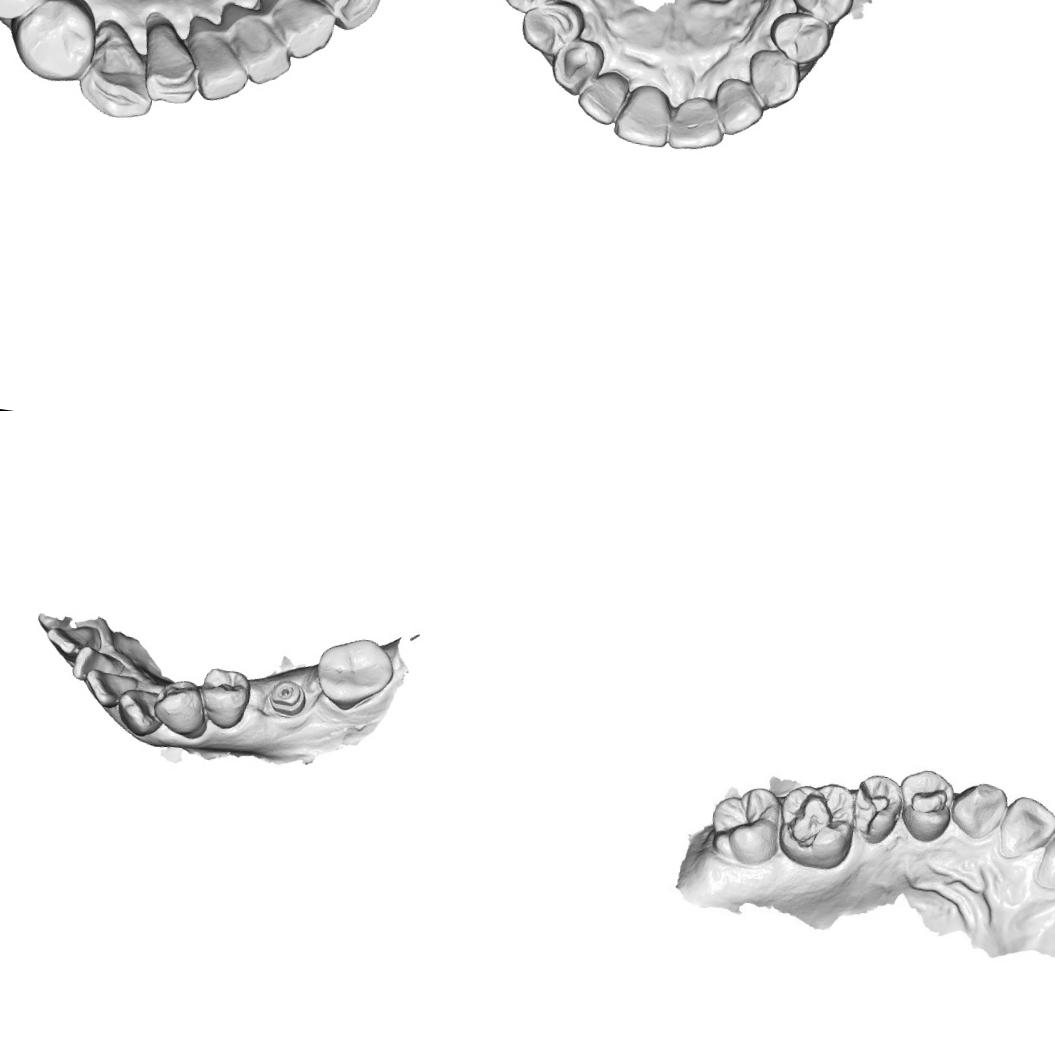canine: (74, 14, 165, 124), (742, 44, 804, 114), (948, 778, 1008, 846), (546, 35, 608, 100), (290, 0, 385, 35), (112, 684, 164, 740)
implant_minus: (266, 675, 310, 718)
incisor: (136, 15, 208, 109), (177, 20, 253, 108), (220, 8, 298, 90), (261, 0, 340, 63), (610, 80, 676, 150), (666, 91, 729, 158), (572, 64, 632, 130), (708, 74, 766, 140), (1000, 795, 1055, 861), (80, 666, 141, 713), (70, 642, 130, 688), (42, 618, 96, 659), (1040, 816, 1055, 896)
inlay: (782, 784, 850, 858), (846, 770, 900, 842), (904, 775, 952, 826)
molar: (702, 781, 790, 872), (310, 630, 400, 716)
premolar: (10, 0, 101, 86), (513, 0, 590, 61), (762, 7, 834, 72), (192, 664, 256, 734), (148, 676, 210, 737), (783, 0, 859, 28), (495, 0, 570, 19)
